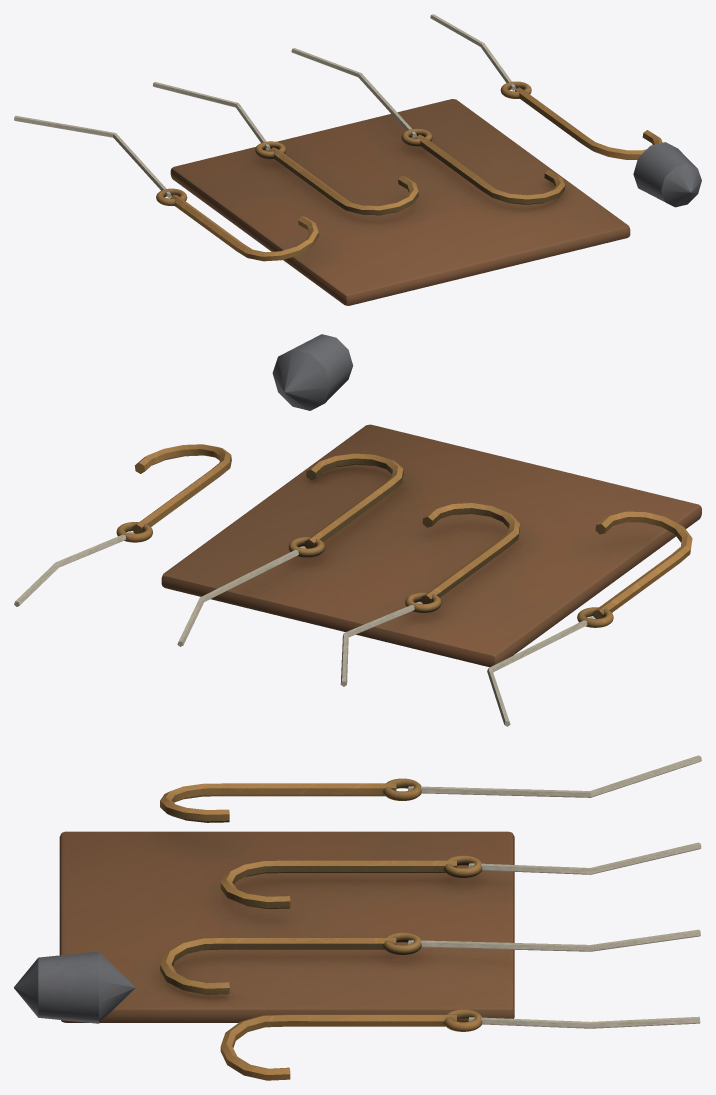
File: fish_hooks.glb
3 renders of one model, top to bottom at view 1: azimuth 30°, elevation 25°; view 2: azimuth 150°, elevation 25°; view 3: azimuth 270°, elevation 25°, orthographic. The views are drawn at different scales.
Parts seen in each view (by area): view 1: fish_hooks; view 2: fish_hooks; view 3: fish_hooks.
Part boxes in pixels (left/top/right/bottom): fish_hooks: left=14, top=14, right=701, bottom=305; fish_hooks: left=14, top=334, right=701, bottom=726; fish_hooks: left=14, top=755, right=701, bottom=1080.
Bounding box in the file's own units: 0.1172 × 0.0172 × 0.1134.
Materials: 1 (1 with a texture image).
